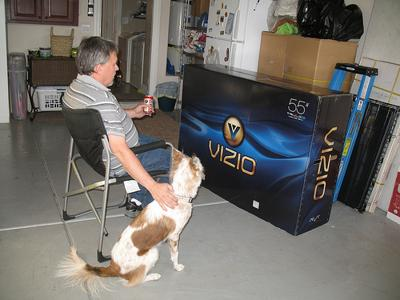person: (62, 37, 182, 213)
